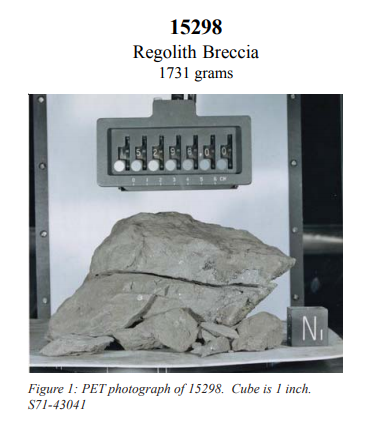Breccia: (59, 211, 295, 353)
